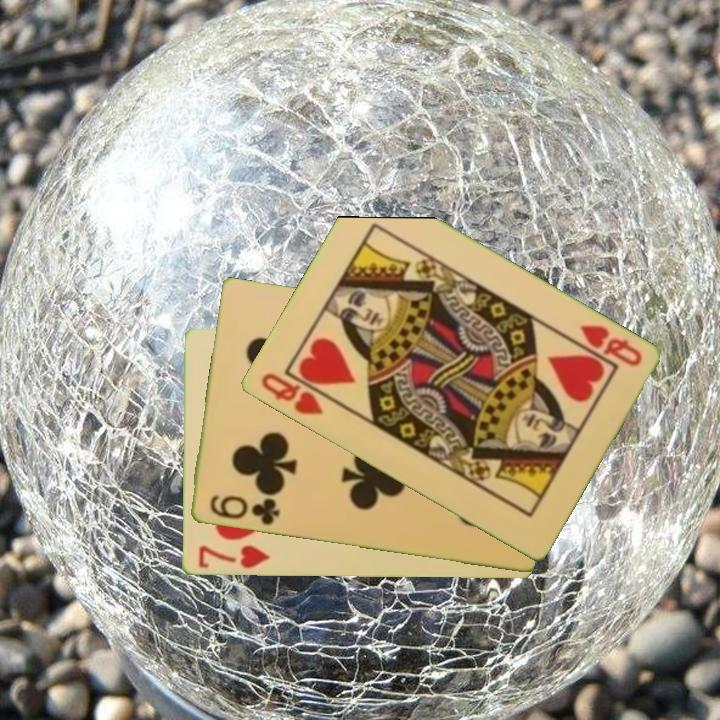6c: (205, 492, 282, 529)
7h: (195, 542, 272, 571)
Qh: (575, 321, 645, 370), (257, 369, 326, 418)
